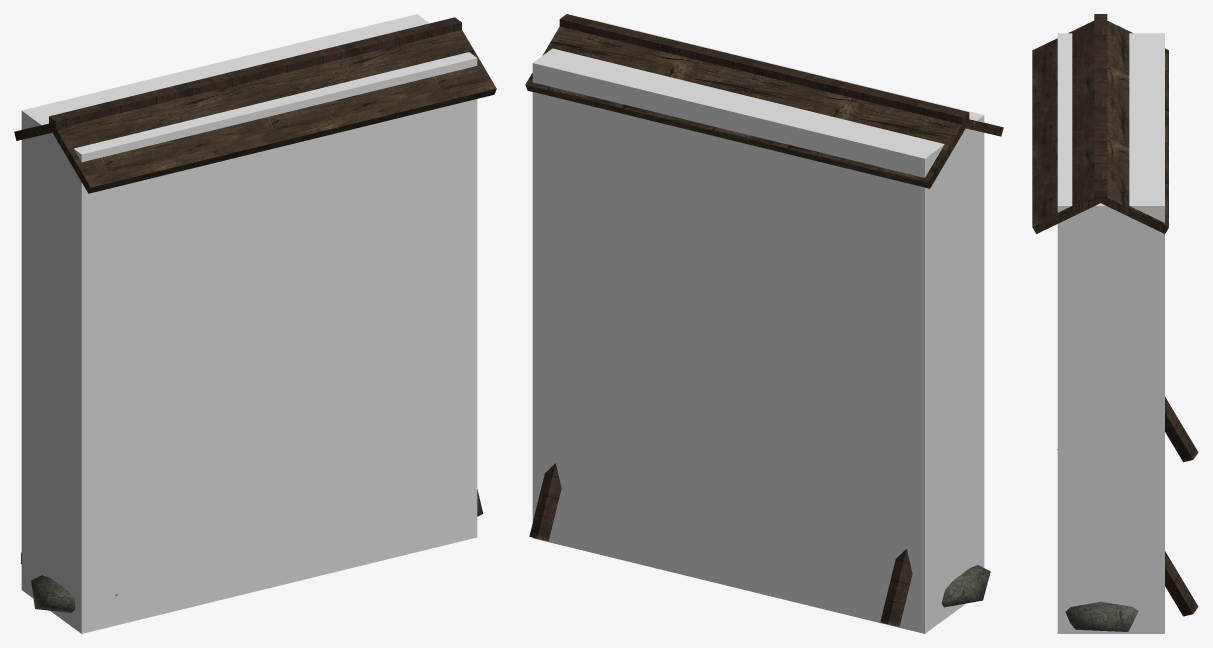
File: map_board_known_roads.glb
3 views of the same model, side by side, from view 1: azimuth 30°, elevation 25°; view 2: azimuth 150°, elevation 25°; view 3: azimuth 270°, elevation 25° (orthographic). The views are drawn at different scales.
Parts seen in each view (by area): view 1: col_map_board, board; view 2: col_map_board, board; view 3: col_map_board, board.
Part boxes in pixels (<box>): col_map_board: <box>21,14,477,633</box>; board: <box>14,17,496,612</box>; col_map_board: <box>532,19,984,633</box>; board: <box>525,14,1003,626</box>; col_map_board: <box>1057,33,1164,633</box>; board: <box>1032,14,1198,631</box>.
Bounding box in the file's own units: 2.12 × 2.29 × 0.7741.
6 materials, 6 textured.
